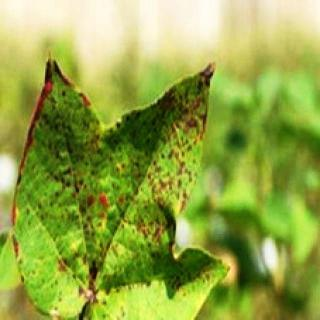leaf spot: (10, 55, 228, 320)
